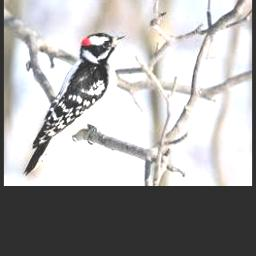Woodpecker: (23, 33, 128, 176)
